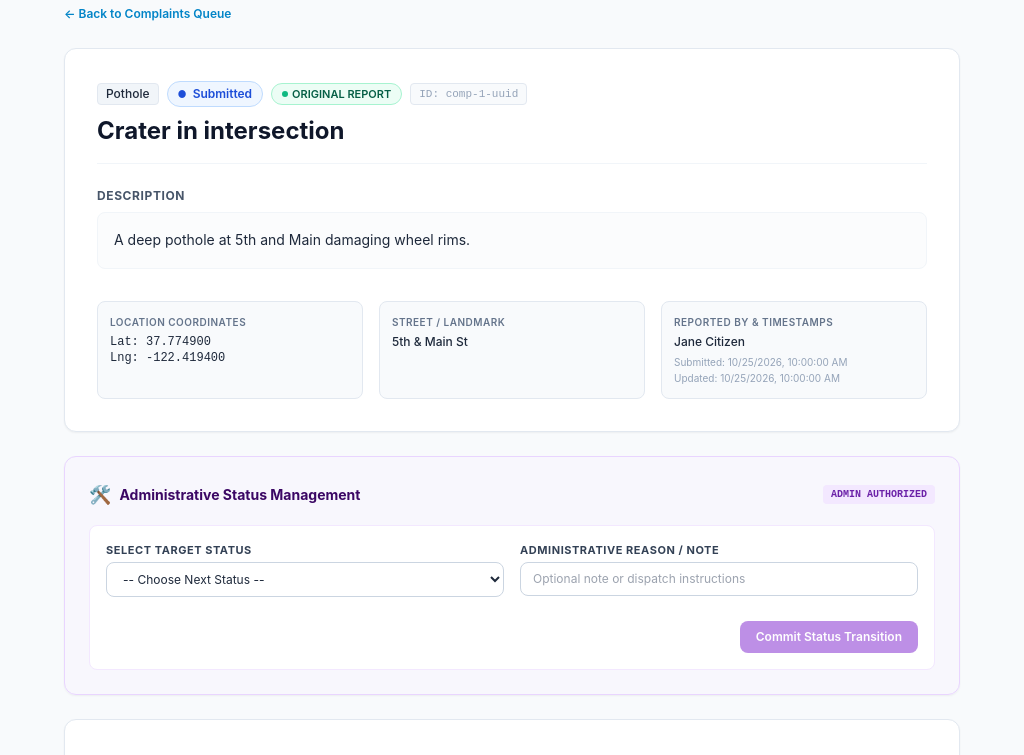
Scenario: Complaint Detail Page Tests › successfully updates status when valid transition and reason are submitted by admin
Check: the heading "Administrative Status Management" is shown, box x1=120 y1=485 x2=360 y2=505
Select "Under Review (UNDER_REVIEW)" in the dropdown at x=305, y=580, box x1=106 y1=562 x2=504 y2=597
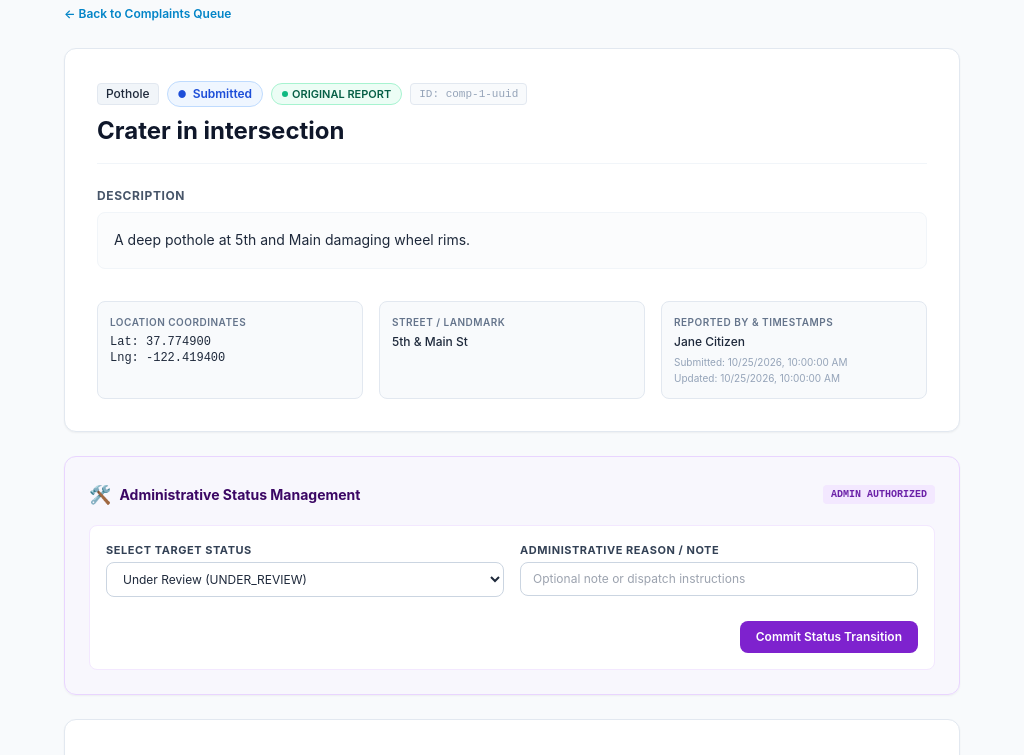
Type "Dispatched inspector unit #4" into the field with placeholder "Optional note or dispatch instructions" at x=719, y=579, box x1=520 y1=562 x2=918 y2=596
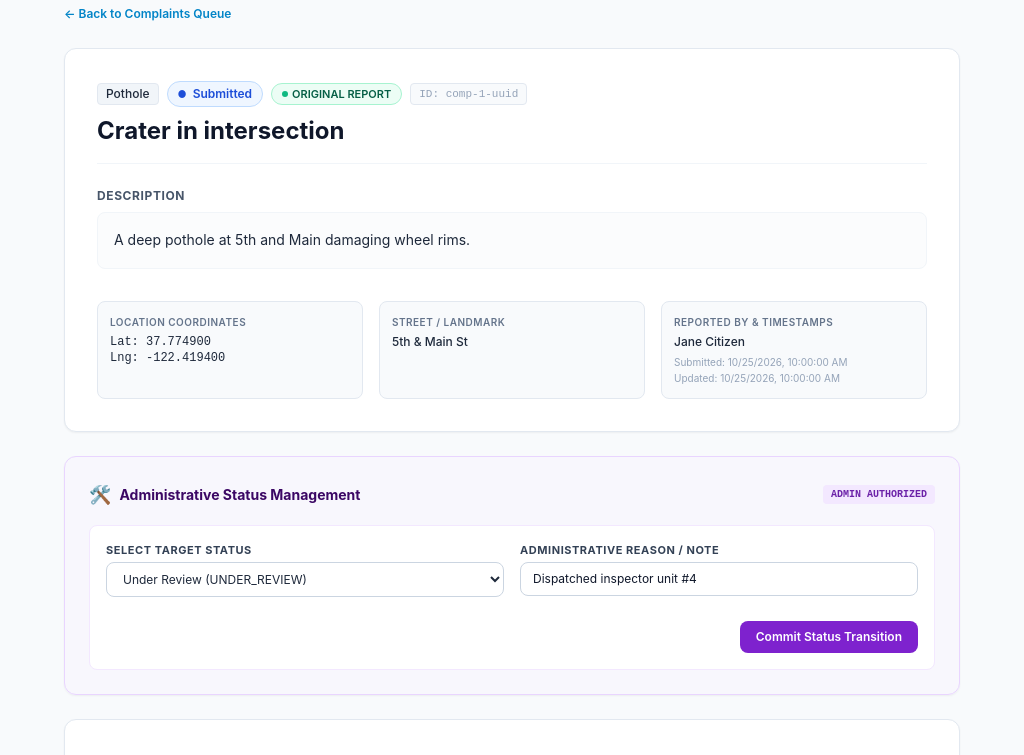
Click the button "Commit Status Transition" at x=829, y=637, box x1=740 y1=621 x2=918 y2=653
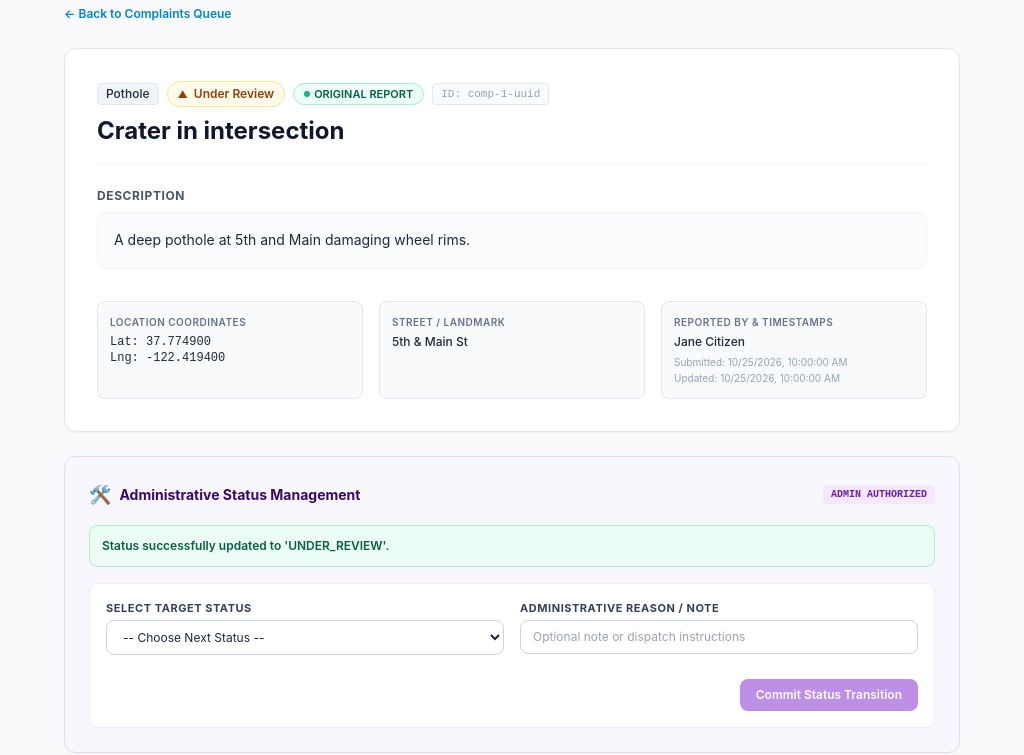
Check: the text "Status successfully updated to 'UNDER_REVIEW'." is shown, box x1=89 y1=525 x2=935 y2=567
